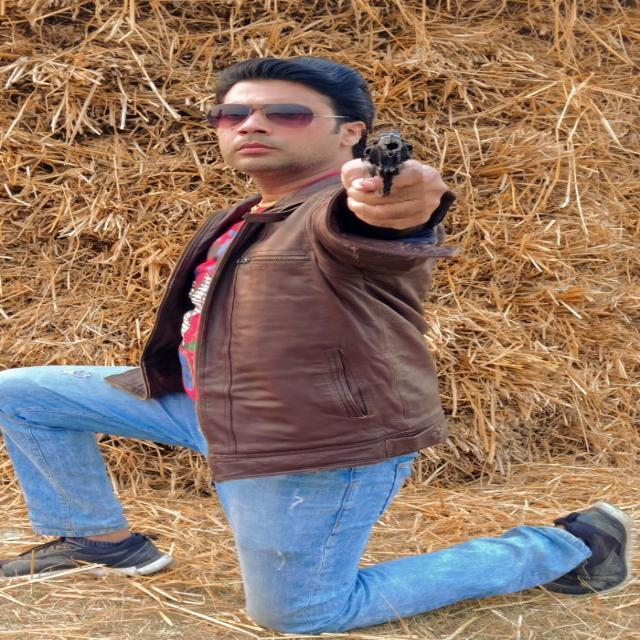Handgun: (361, 126, 426, 220)
